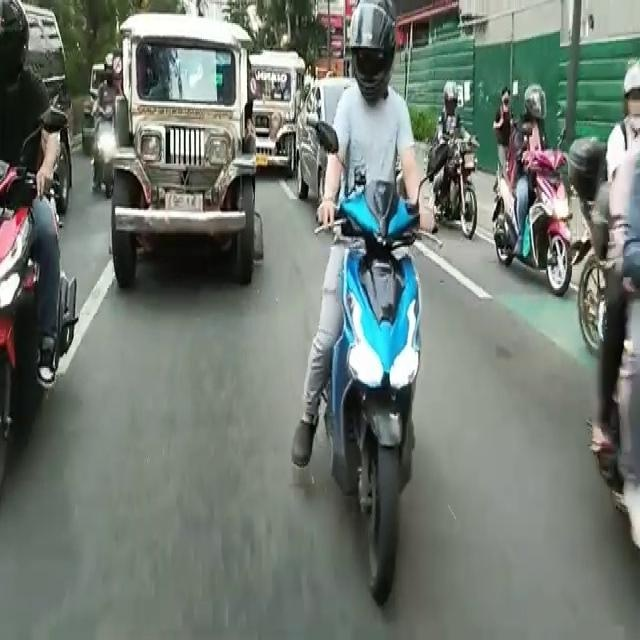jeepney: (114, 33, 266, 285), (249, 56, 300, 172)
motorcycle: (313, 38, 434, 566), (0, 64, 61, 453), (594, 79, 640, 556), (485, 97, 585, 292), (421, 100, 473, 252)
